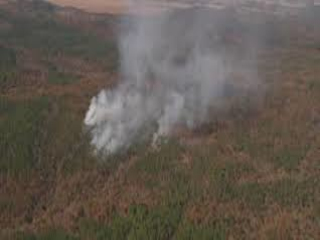smoke: (77, 75, 186, 159)
